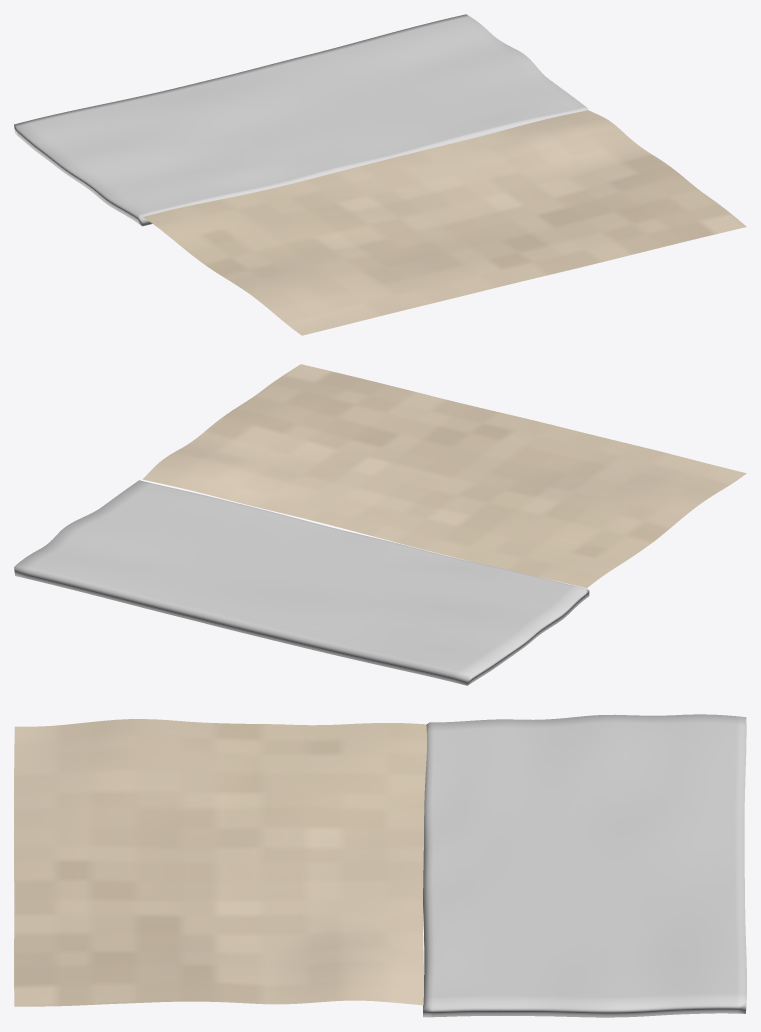
Rendered from Beach_withMovingWater.fbx.
3 renders of one model, top to bottom at view 1: azimuth 30°, elevation 25°; view 2: azimuth 150°, elevation 25°; view 3: azimuth 270°, elevation 25°, orthographic. The views are drawn at different scales.
Visible parts, largest first — view 1: Sand, Water; view 2: Sand, Water; view 3: Sand, Water.
Part boxes in pixels (bbox=[...]): Sand: bbox=[143, 110, 746, 335]; Water: bbox=[14, 14, 588, 226]; Sand: bbox=[142, 364, 746, 588]; Water: bbox=[14, 480, 589, 685]; Sand: bbox=[14, 719, 426, 1006]; Water: bbox=[423, 714, 746, 1017].
Size of the model in its own units: 266 by 8.71 by 284.
